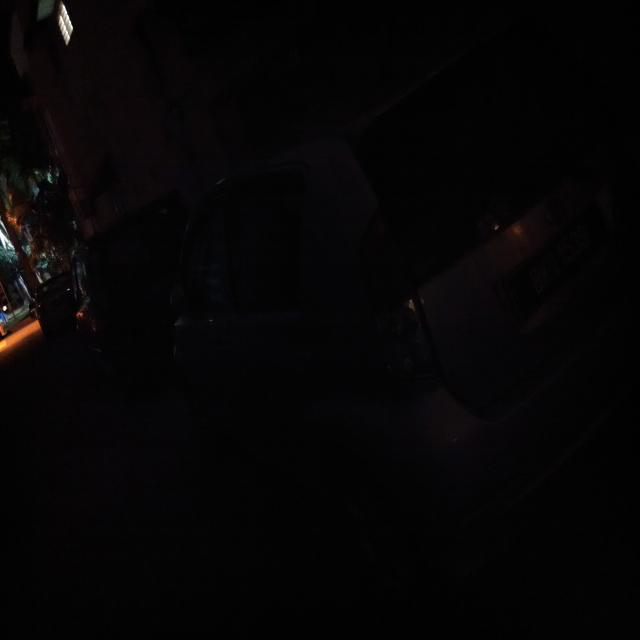Car: (162, 13, 640, 600)
